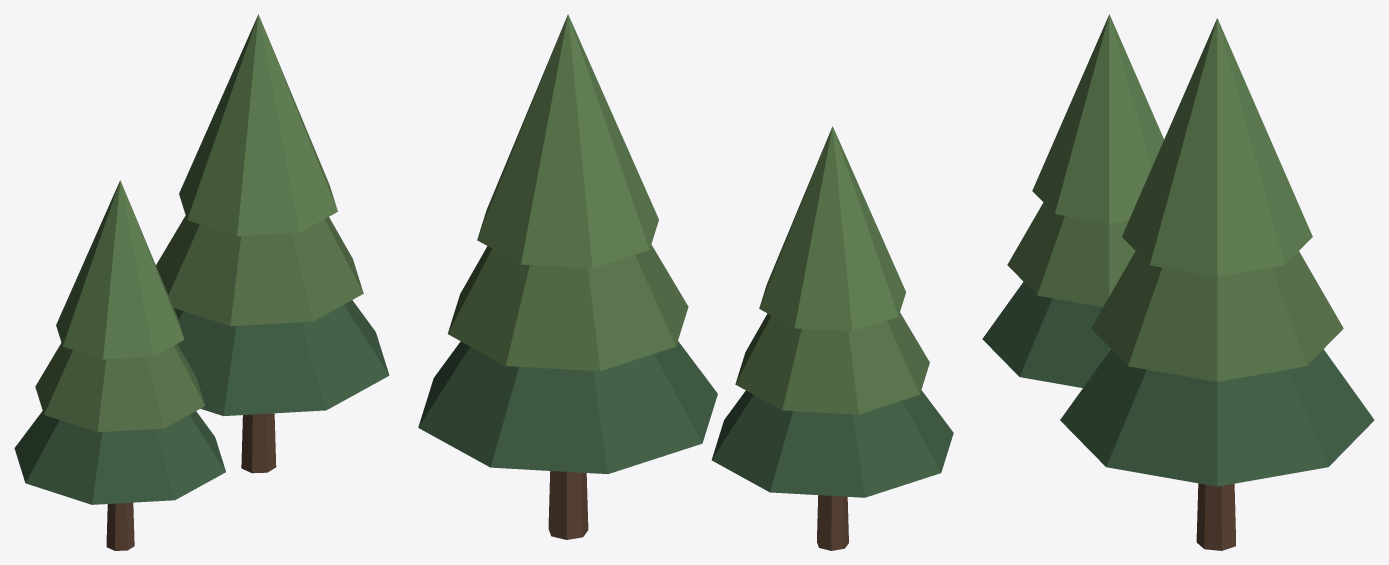
The model's file is saplings.glb.
The picture shows the model from 3 angles, left to right: view 1: azimuth 30°, elevation 25°; view 2: azimuth 150°, elevation 25°; view 3: azimuth 270°, elevation 25°; orthographic projection. The views are drawn at different scales.
Visible parts, largest first — view 1: saplings; view 2: saplings; view 3: saplings.
Boxes of the visible parts, x1=… form: saplings: x1=14, y1=14, x2=389, y2=550; saplings: x1=418, y1=14, x2=953, y2=550; saplings: x1=982, y1=14, x2=1374, y2=550.
Bounding box in the file's own units: 4.04 × 4.4 × 2.98.
